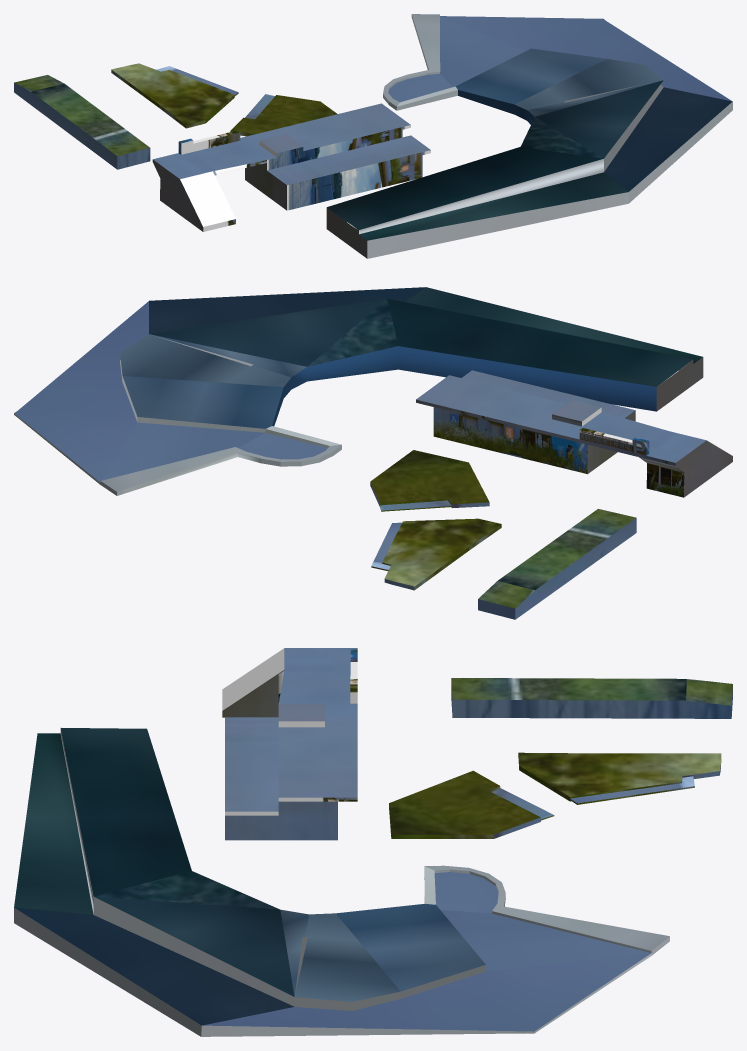
The model's file is Parking.fbx.
3 renders of one model, top to bottom at view 1: azimuth 30°, elevation 25°; view 2: azimuth 150°, elevation 25°; view 3: azimuth 270°, elevation 25°, orthographic. The views are drawn at different scales.
Parts seen in each view (by area): view 1: 平面.007, 立方體.039, 立方體.041, 立方體.040; view 2: 平面.007, 立方體.039, 立方體.041, 立方體.040; view 3: 平面.007, 立方體.039, 立方體.041, 立方體.040.
Boxes of the visible parts, <box> form: 平面.007: <box>326,14,732,258</box>; 立方體.039: <box>152,103,430,231</box>; 立方體.041: <box>111,63,337,136</box>; 立方體.040: <box>14,75,150,169</box>; 平面.007: <box>14,287,703,495</box>; 立方體.039: <box>416,370,732,497</box>; 立方體.041: <box>370,450,501,590</box>; 立方體.040: <box>478,509,636,619</box>; 平面.007: <box>14,728,669,1036</box>; 立方體.039: <box>222,648,357,840</box>; 立方體.041: <box>389,752,721,838</box>; 立方體.040: <box>451,678,732,718</box>.
Size of the model in its own units: 25.13 by 2.26 by 22.36.
1 material, 1 textured.
